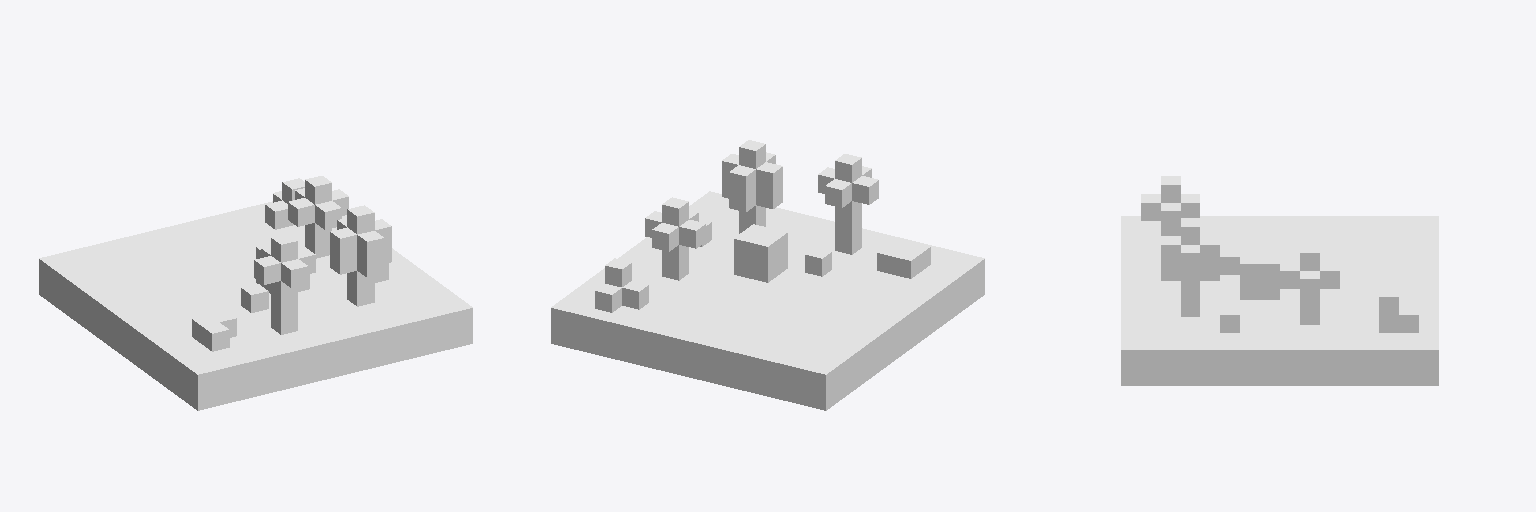
Rendered from Road_turn_1.obj.
3 views of the same model, side by side, from view 1: azimuth 30°, elevation 25°; view 2: azimuth 150°, elevation 25°; view 3: azimuth 270°, elevation 25° (orthographic).
Parts seen in each view (by area): view 1: object 1; view 2: object 1; view 3: object 1.
Boxes of the visible parts, x1=… form: object 1: x1=39, y1=176, x2=472, y2=410; object 1: x1=551, y1=140, x2=984, y2=410; object 1: x1=1121, y1=176, x2=1438, y2=385.
Bounding box in the file's own units: 1.6 × 0.7 × 1.6.